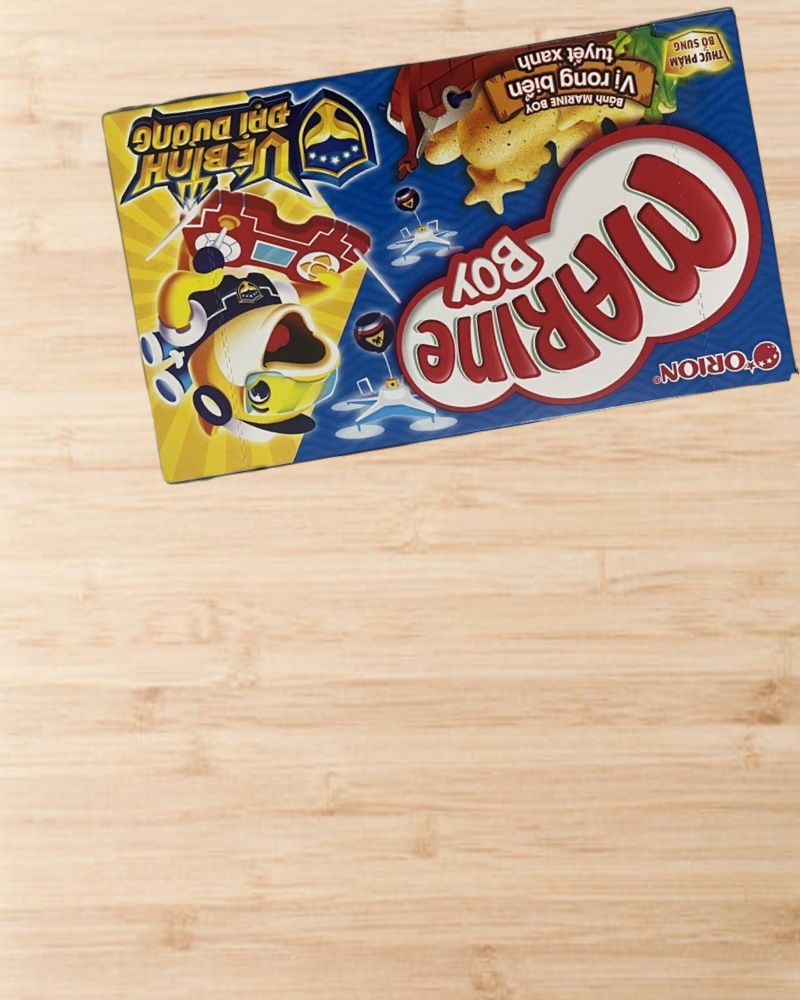Marine: (98, 2, 800, 491)
